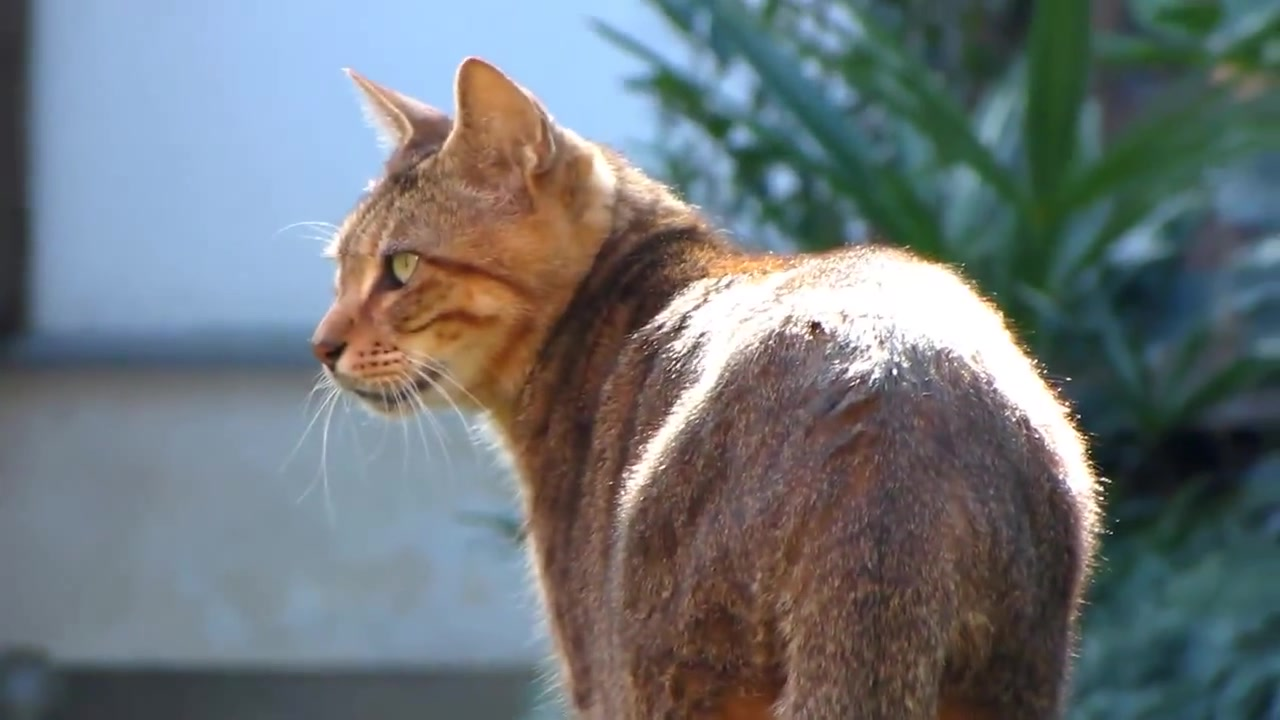cat: (303, 59, 1107, 720)
